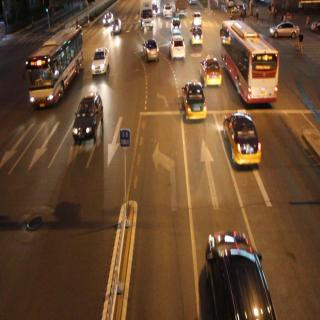BigCar: (23, 23, 78, 105), (221, 24, 277, 102), (138, 2, 156, 30)
Car: (207, 229, 275, 320), (221, 107, 262, 166), (72, 89, 103, 143), (181, 78, 206, 120), (200, 55, 222, 86), (272, 18, 300, 39), (91, 44, 109, 76), (167, 35, 186, 62), (141, 37, 159, 63), (191, 24, 203, 44), (170, 15, 182, 32), (112, 17, 122, 35), (102, 10, 112, 26), (193, 10, 202, 25)
